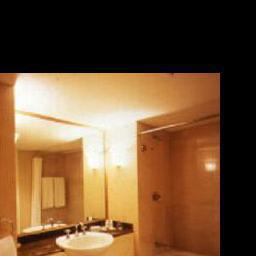Lavamanos: (52, 225, 113, 256)
